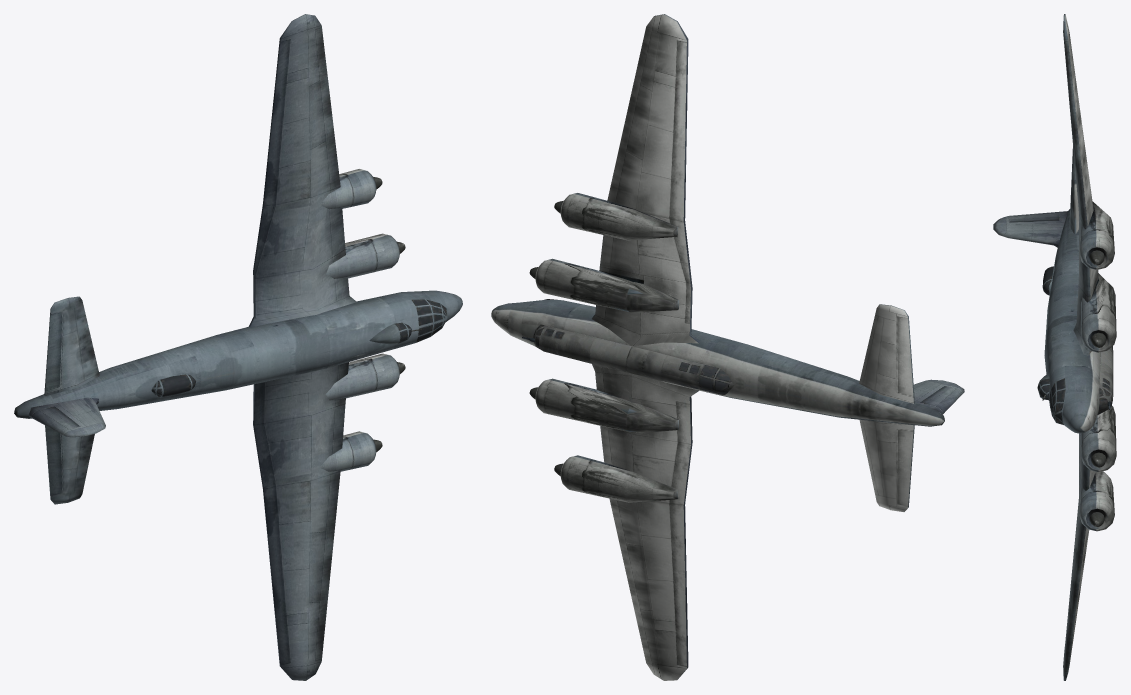
File: vehicle_condor.glb
The picture shows the model from 3 angles, left to right: view 1: azimuth 30°, elevation 25°; view 2: azimuth 150°, elevation 25°; view 3: azimuth 270°, elevation 25°; orthographic projection.
Bounding box in the file's own units: 950 × 1346 × 227.
Materials: 4 (4 with a texture image).
